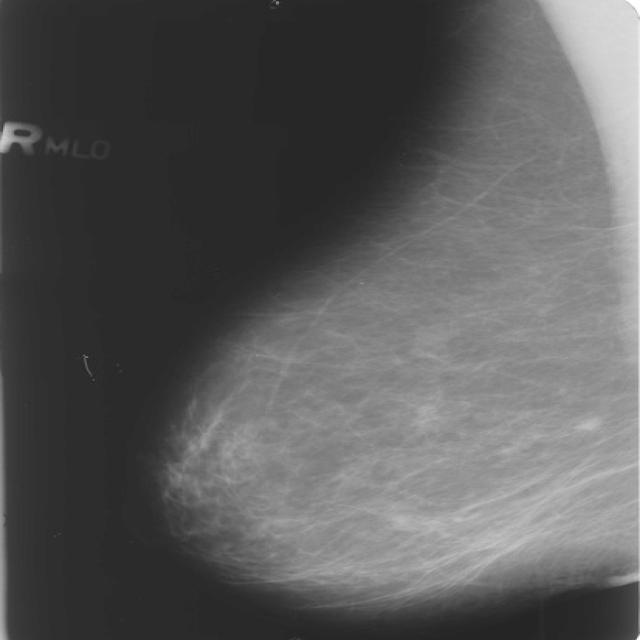tumour: (575, 415, 604, 430)
